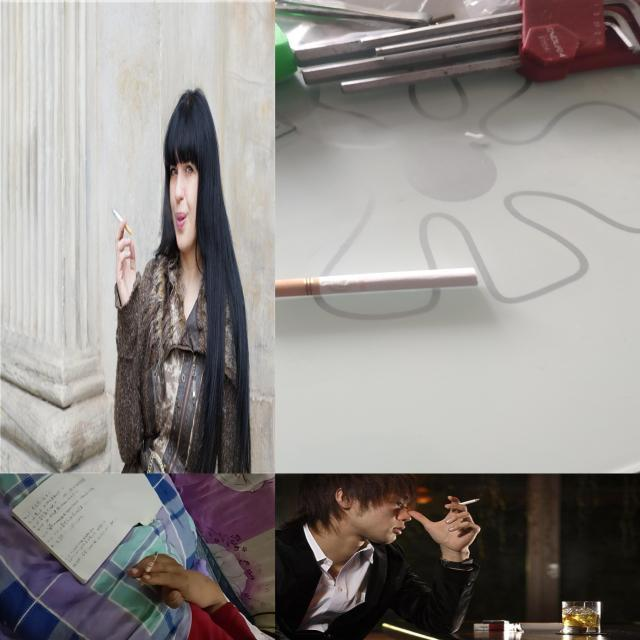cigarette: (275, 268, 480, 300), (110, 202, 133, 240), (138, 551, 159, 587), (444, 498, 481, 508)
